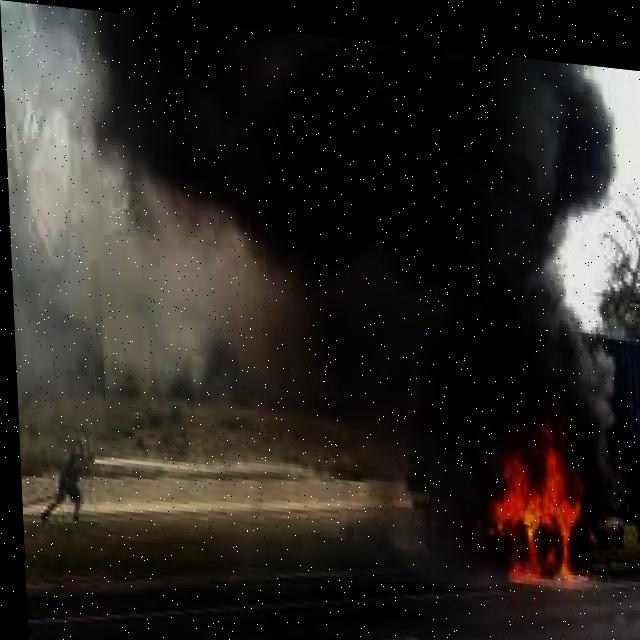Fire: (453, 371, 602, 583)
